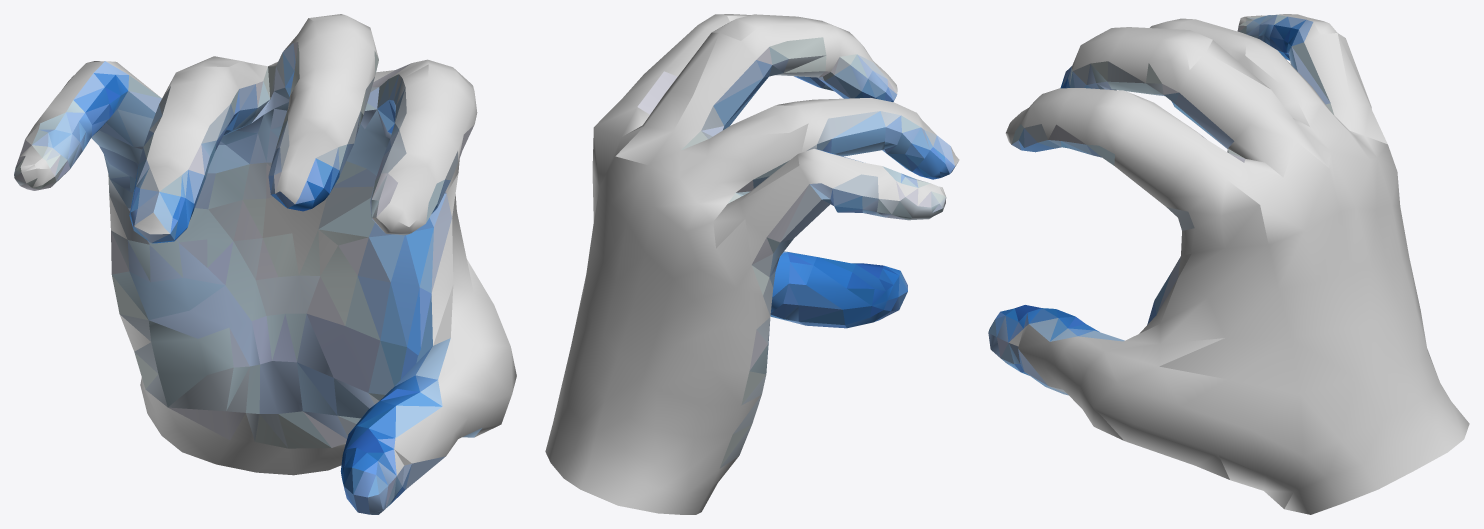
The model's file is glove_mustard.glb.
3 renders of one model, left to right at view 1: azimuth 30°, elevation 25°; view 2: azimuth 150°, elevation 25°; view 3: azimuth 270°, elevation 25°, orthographic. The views are drawn at different scales.
Parts seen in each view (by area): view 1: mesh0; view 2: mesh0; view 3: mesh0.
Boxes of the visible parts, bbox=[...] form: mesh0: bbox=[14, 14, 516, 514]; mesh0: bbox=[545, 14, 959, 514]; mesh0: bbox=[988, 14, 1469, 514].
Size of the model in its own units: 0.1223 by 0.1362 by 0.1339.
